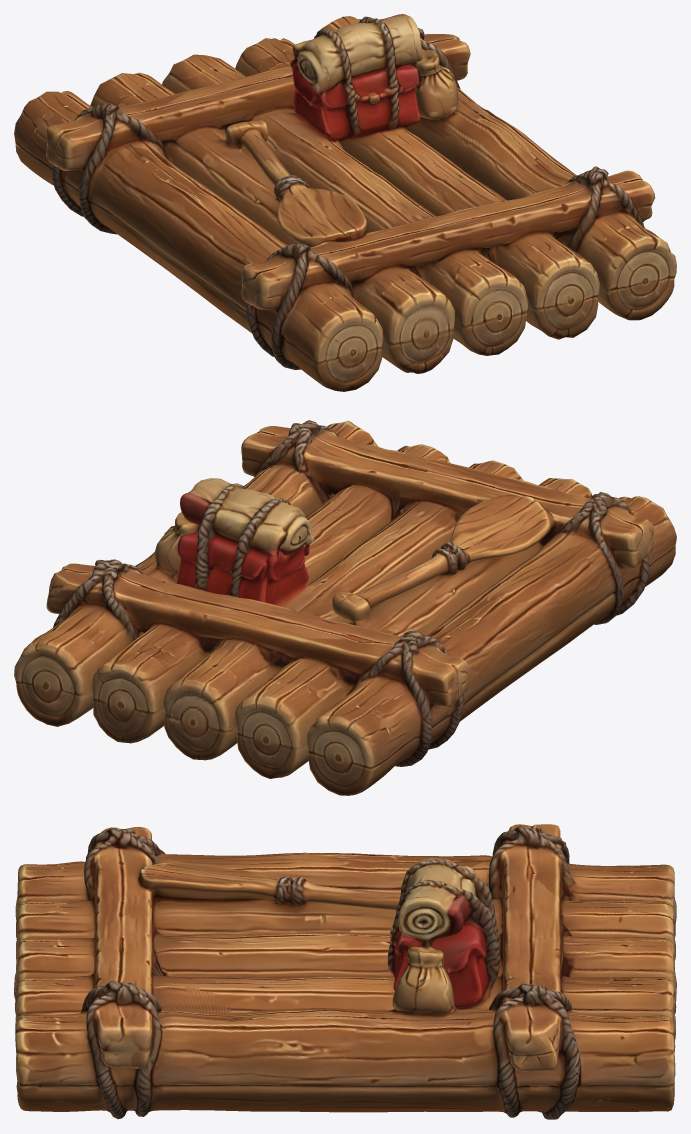
Rendered from raft-hyper3d-pbr.glb.
The picture shows the model from 3 angles, top to bottom: view 1: azimuth 30°, elevation 25°; view 2: azimuth 150°, elevation 25°; view 3: azimuth 270°, elevation 25°; orthographic projection. The views are drawn at different scales.
Parts seen in each view (by area): view 1: model; view 2: model; view 3: model.
Boxes of the visible parts, x1,y1,x2,y2 form: model: (14,14,676,391); model: (14,420,676,795); model: (14,824,676,1119).
Bounding box in the file's own units: 1.44 × 0.6393 × 1.9.
Materials: 1 (1 with a texture image).
